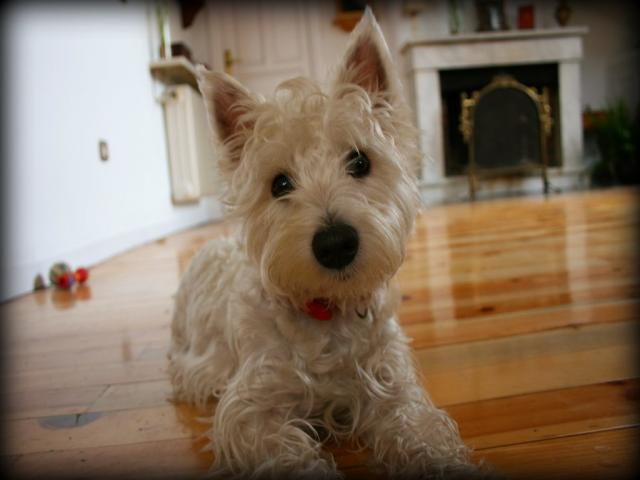Dog: (145, 4, 488, 480)
